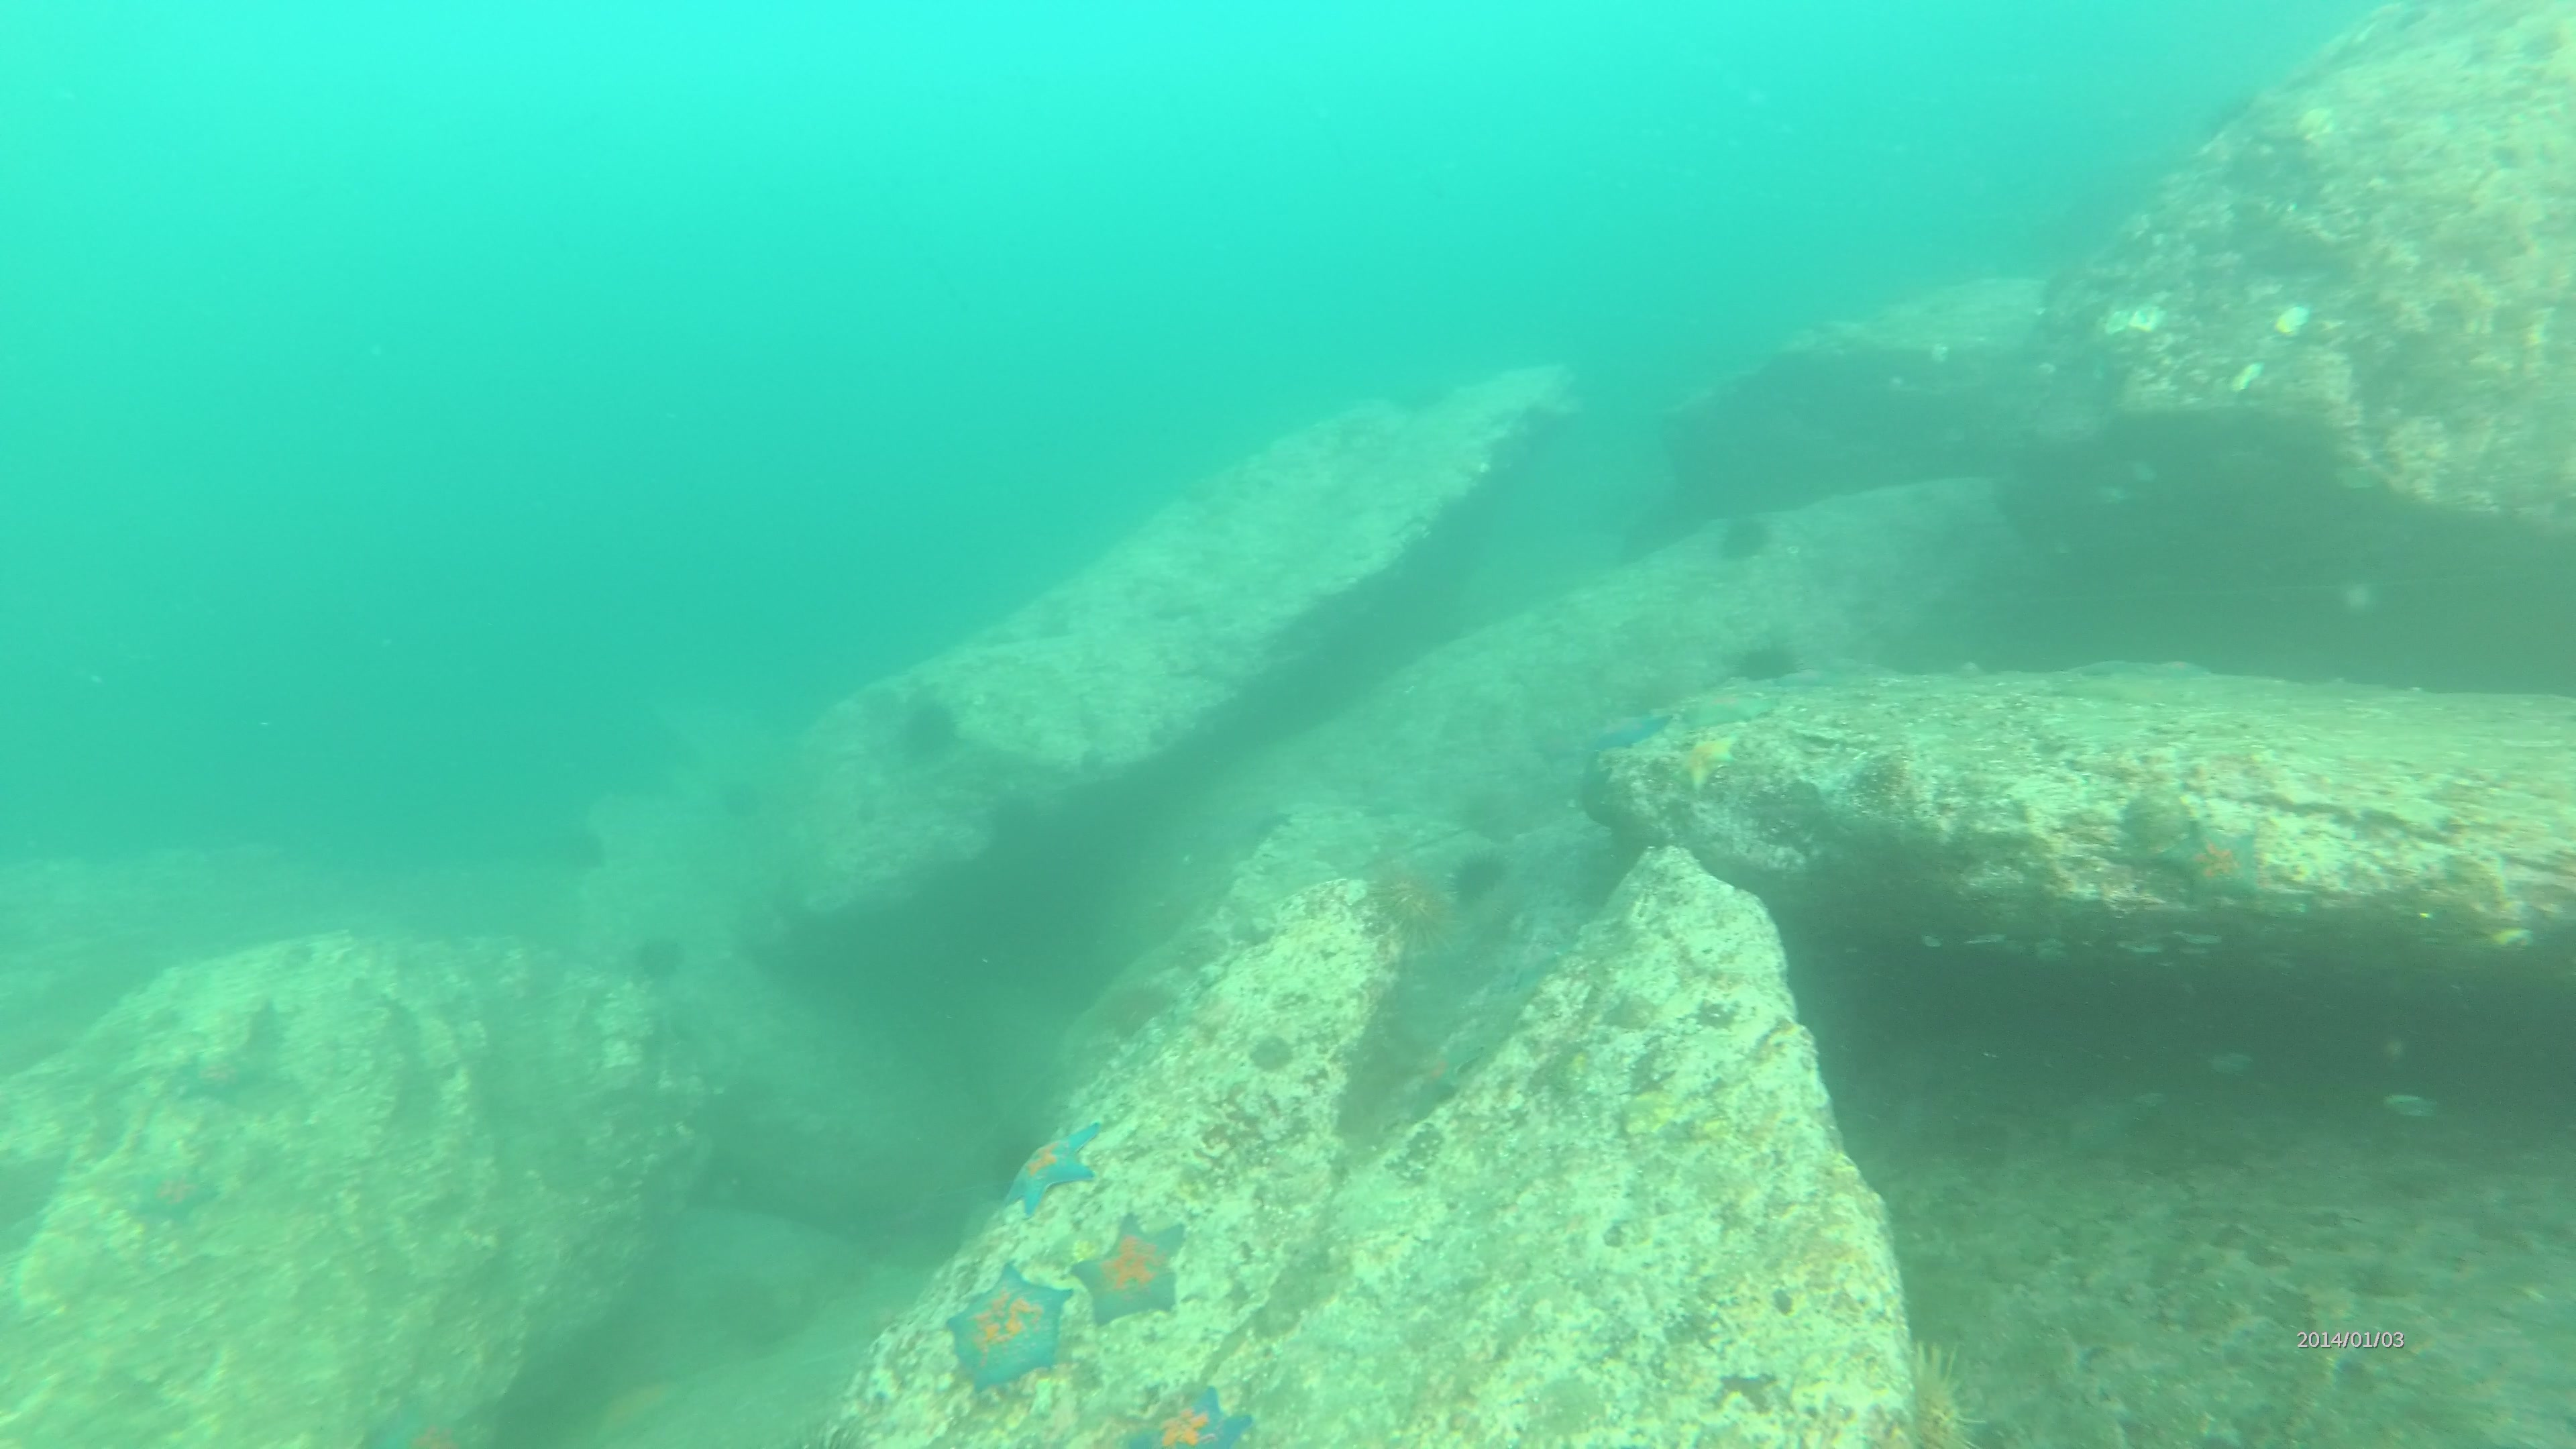echinus: (1904, 1334, 1987, 1449), (1369, 869, 1451, 955), (1854, 752, 1913, 814), (1453, 853, 1509, 911), (901, 702, 959, 752), (1718, 511, 1769, 559), (1737, 640, 1794, 683), (1249, 1030, 1297, 1077)
starfish: (929, 1270, 1065, 1396), (1076, 1221, 1200, 1316), (2157, 819, 2259, 908), (987, 1131, 1095, 1214), (1120, 1385, 1253, 1449), (1401, 1049, 1479, 1120), (129, 1162, 209, 1230), (1580, 706, 1674, 761), (1677, 681, 1775, 727), (186, 1044, 253, 1106), (1670, 741, 1746, 794)
